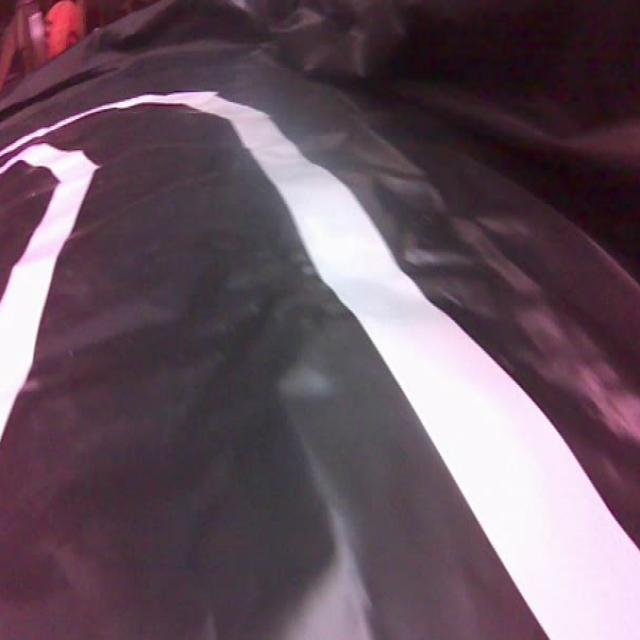LineaCarril: (113, 93, 640, 640), (0, 143, 97, 443)
